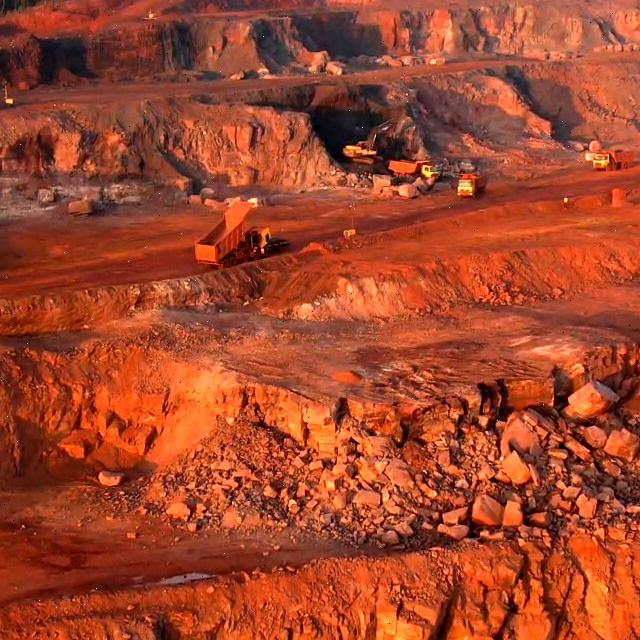Dumper truck: (196, 197, 269, 262), (592, 151, 637, 169), (455, 175, 486, 198)
Excavator: (342, 136, 384, 164)
